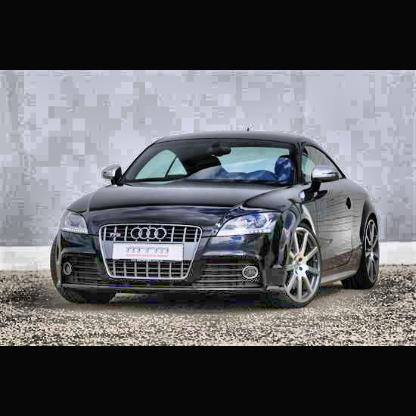Audi TT Hatchback 2011: (50, 126, 382, 309)
